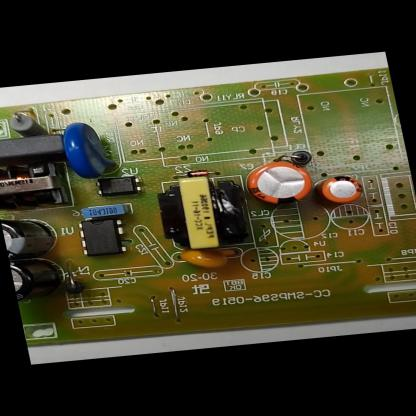Cap1: (237, 158, 319, 210)
Cap2: (313, 171, 366, 209)
Cap3: (0, 212, 65, 261)
Cap4: (9, 252, 74, 305)
MOSFET: (72, 212, 136, 264)
Mov: (51, 117, 121, 186)
Resistor: (0, 108, 52, 140)
Transformer: (152, 167, 260, 260), (0, 155, 70, 215)
